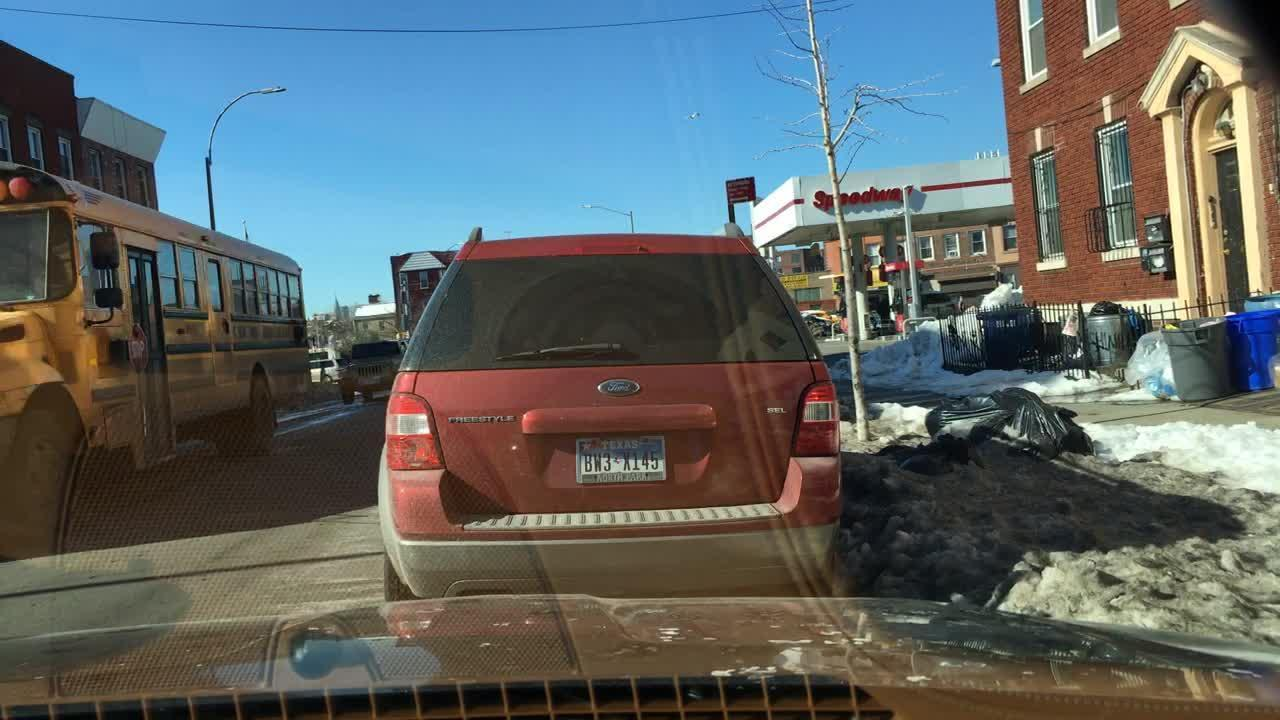ford: (592, 370, 648, 409)
